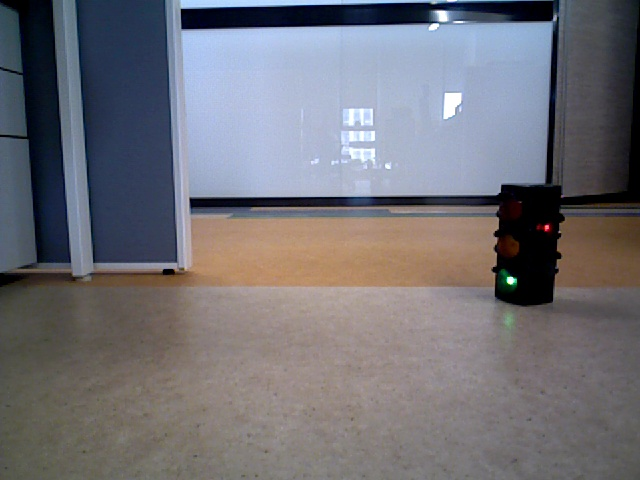green: (499, 185, 551, 291)
